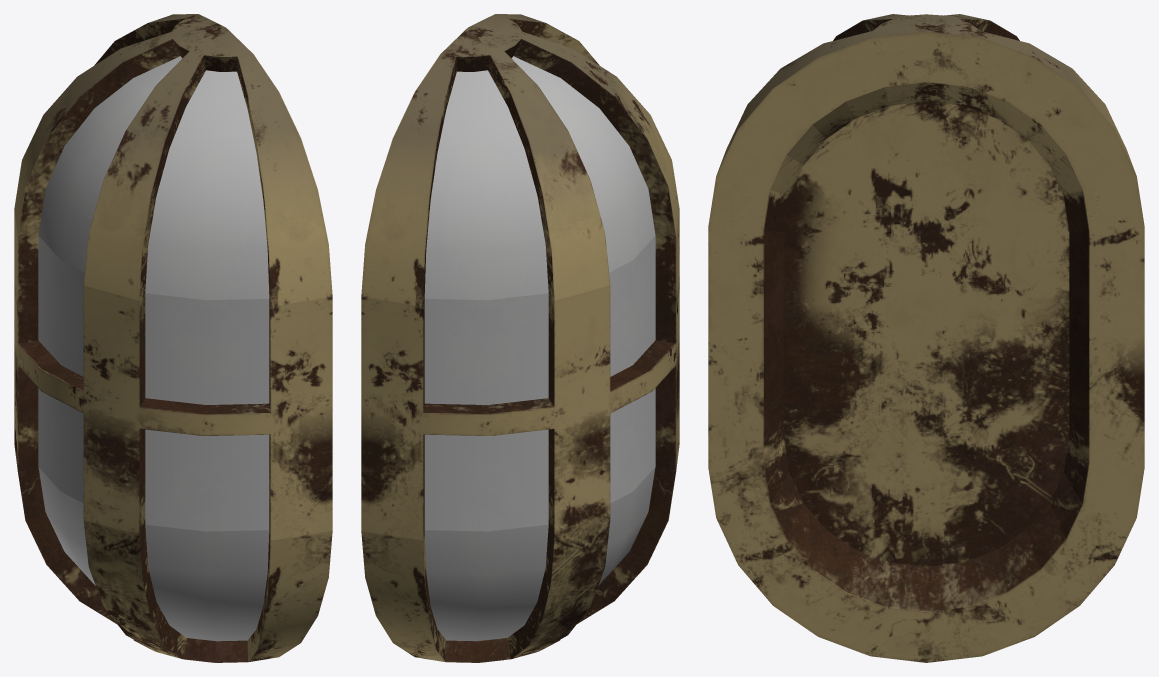
File: SM_Wall_Lamp.fbx
3 views of the same model, side by side, from view 1: azimuth 30°, elevation 25°; view 2: azimuth 150°, elevation 25°; view 3: azimuth 270°, elevation 25° (orthographic). The views are drawn at different scales.
Parts seen in each view (by area): view 1: SM_Wall_Lamp; view 2: SM_Wall_Lamp; view 3: SM_Wall_Lamp.
Boxes of the visible parts, box(x1,y1,x2,y2) form: SM_Wall_Lamp: box(14, 14, 332, 662); SM_Wall_Lamp: box(361, 14, 679, 662); SM_Wall_Lamp: box(708, 14, 1144, 662).
Size of the model in its own units: 9.6 by 19.19 by 30.63.
2 materials, 2 textured.
